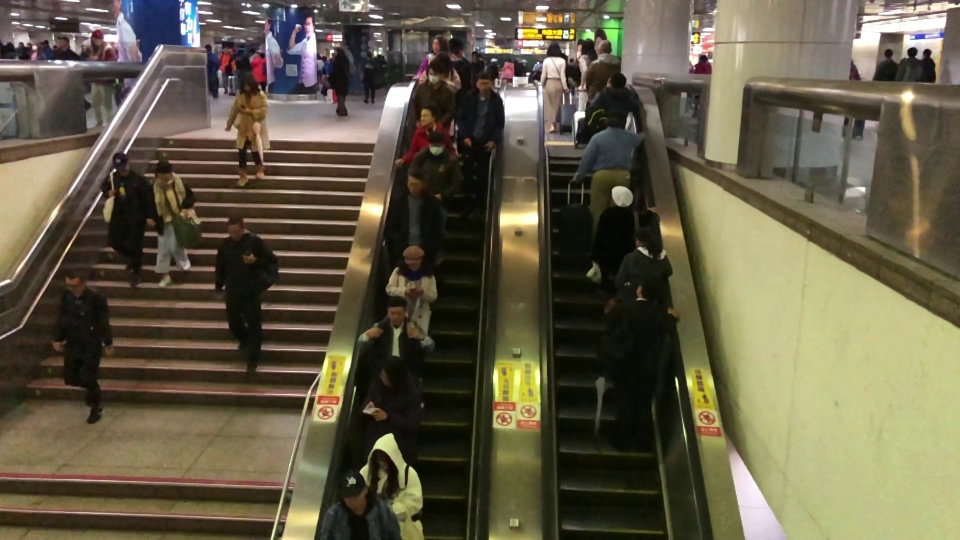person_head: (368, 431, 403, 472), (338, 468, 368, 511), (379, 353, 408, 391), (384, 294, 409, 328), (403, 167, 426, 198), (634, 276, 661, 302), (401, 243, 424, 272), (609, 184, 634, 210), (64, 269, 87, 297), (418, 102, 440, 128), (632, 224, 654, 249), (110, 152, 131, 178), (226, 215, 246, 241), (426, 58, 445, 85), (474, 71, 495, 95), (427, 130, 446, 156), (605, 108, 626, 130), (605, 70, 626, 91), (154, 159, 173, 182), (238, 72, 258, 93), (448, 36, 465, 58), (434, 50, 451, 71), (430, 34, 447, 54), (89, 28, 105, 48), (596, 39, 613, 56), (546, 40, 562, 57), (580, 37, 595, 55), (56, 36, 70, 49), (80, 39, 90, 53), (883, 48, 894, 60), (922, 47, 932, 59), (907, 46, 917, 58), (334, 46, 344, 58), (470, 50, 479, 62), (5, 41, 14, 52), (698, 54, 708, 63), (240, 50, 249, 60), (365, 50, 373, 61), (204, 43, 212, 53), (41, 39, 49, 47), (520, 58, 527, 66), (490, 57, 497, 65), (505, 56, 512, 63), (258, 52, 265, 59), (17, 41, 24, 48), (222, 45, 228, 53), (568, 57, 574, 64), (537, 56, 543, 63), (316, 53, 322, 60), (26, 42, 32, 49), (31, 45, 37, 52), (330, 51, 335, 59), (52, 44, 57, 51)
person_vbox: (602, 276, 680, 453), (572, 108, 646, 249), (50, 269, 113, 425), (213, 215, 273, 378), (590, 183, 660, 298), (354, 353, 422, 470), (455, 71, 505, 221), (100, 152, 155, 288), (355, 294, 434, 388), (382, 167, 445, 272), (149, 159, 197, 289), (316, 468, 402, 540), (406, 130, 463, 236), (358, 431, 423, 520), (223, 71, 269, 188), (383, 243, 437, 337), (405, 58, 456, 140), (394, 102, 457, 167), (612, 224, 673, 290), (584, 70, 640, 133), (539, 40, 572, 134), (86, 28, 116, 126), (52, 36, 91, 111), (582, 39, 621, 101), (418, 50, 462, 93), (448, 36, 472, 107), (327, 46, 351, 117), (574, 37, 597, 110), (841, 58, 861, 139), (414, 35, 448, 80), (690, 54, 711, 118), (895, 46, 922, 82), (359, 50, 377, 104), (204, 43, 221, 99), (218, 45, 237, 95), (871, 48, 898, 81), (234, 50, 252, 88), (250, 51, 266, 92), (919, 47, 937, 83), (36, 39, 55, 60), (469, 51, 484, 74), (500, 56, 514, 80), (531, 56, 543, 81), (323, 51, 336, 74), (78, 39, 91, 61), (1, 40, 16, 59), (16, 41, 31, 59), (486, 57, 498, 78), (514, 58, 527, 77), (316, 53, 323, 83), (567, 57, 576, 78), (30, 45, 37, 60), (26, 42, 34, 54)
